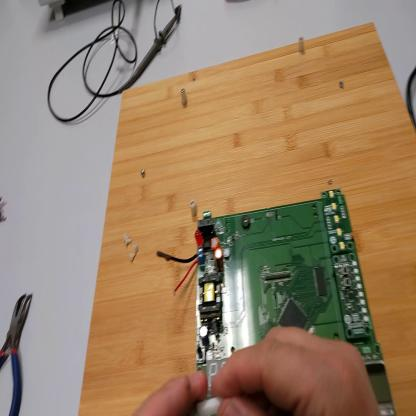hand: (212, 326, 380, 416), (134, 369, 208, 415)
low voltage board: (158, 184, 397, 415)
oscilloscope: (40, 1, 69, 24)
oscilloscope probe tip: (117, 13, 178, 94)
pliers: (2, 290, 32, 412)
working area: (79, 19, 416, 414)
